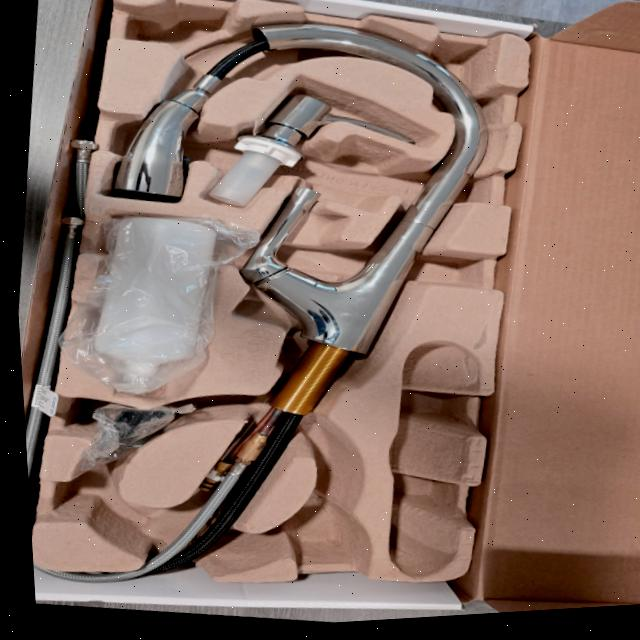1: (110, 21, 486, 575)
2: (206, 90, 419, 206)
3: (88, 214, 214, 397)
4m: (389, 340, 482, 576)
5m: (279, 495, 366, 559)
6m: (50, 473, 155, 545)
7: (82, 400, 193, 470)
